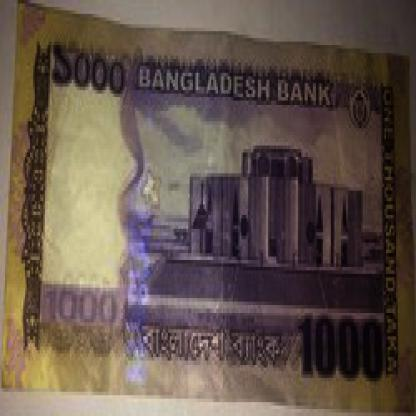One Thousand taka: (294, 312, 388, 385), (50, 42, 126, 100), (42, 281, 122, 333)
